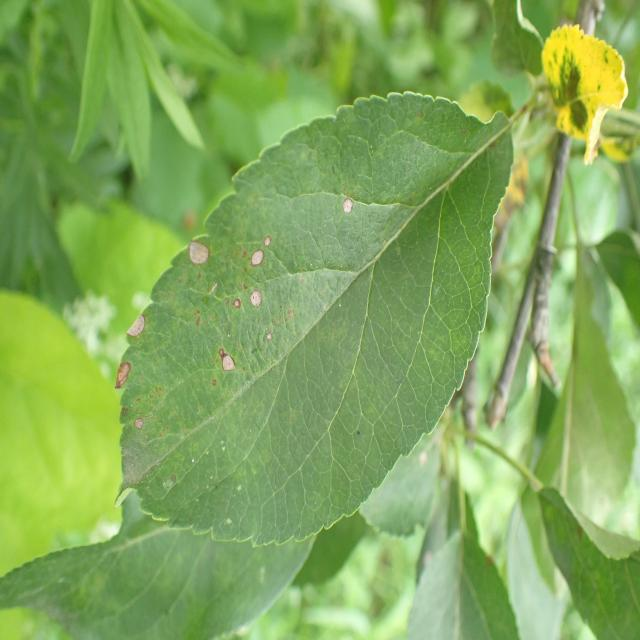Black Rot: (120, 300, 154, 350), (108, 358, 150, 398), (179, 235, 216, 274), (334, 184, 363, 228), (245, 247, 277, 280), (218, 343, 238, 389), (243, 289, 274, 317), (121, 412, 152, 437), (250, 230, 278, 251), (229, 290, 245, 322)
